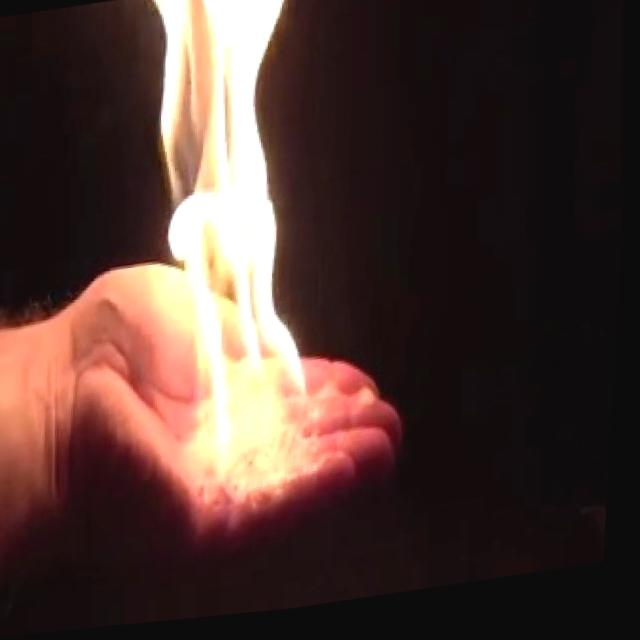helmet: (112, 0, 340, 470)
